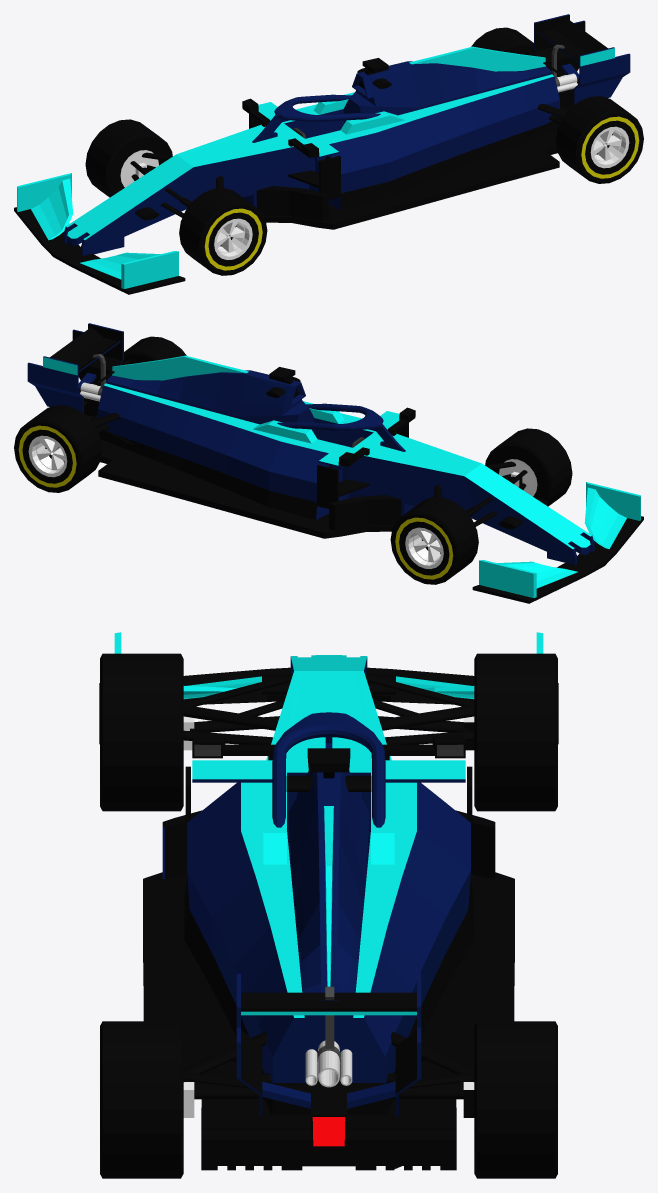
The model's file is low-poly-f1-car.glb.
3 renders of one model, top to bottom at view 1: azimuth 30°, elevation 25°; view 2: azimuth 150°, elevation 25°; view 3: azimuth 270°, elevation 25°, orthographic. The views are drawn at different scales.
Visible parts, largest first — view 1: Cube.002, Cube.005, Cube.007, Cube; view 2: Cube.002, Cube.005, Cube.007, Cube; view 3: Cube.002, Cube.005, Cube.007, Cylinder.003, Cube, Cylinder.001.
Part boxes in pixels (x1,y1,x2,y2): Cube.002: (14,14,630,294); Cube.005: (85,119,267,275); Cube.007: (471,27,643,183); Cube: (249,114,340,199); Cube.002: (27,323,643,603); Cube.005: (390,428,572,584); Cube.007: (14,336,186,492); Cube: (317,423,408,508); Cube.002: (99,632,558,1170); Cube.005: (100,653,557,811); Cube.007: (100,1021,557,1178); Cylinder.003: (305,1040,352,1087); Cube: (185,766,472,867); Cylinder.001: (262,674,395,694).
Size of the model in its own units: 13.96 by 2.93 by 5.01.
